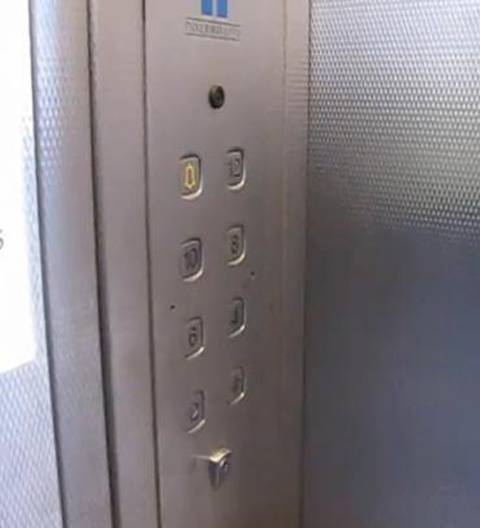10: (179, 237, 206, 283)
12: (225, 148, 247, 191)
4: (226, 296, 246, 339)
6: (181, 317, 206, 360)
8: (223, 225, 248, 266)
alarm: (176, 153, 204, 200)
blur: (182, 389, 206, 435), (225, 365, 247, 407)
keyhole: (208, 446, 233, 489)
